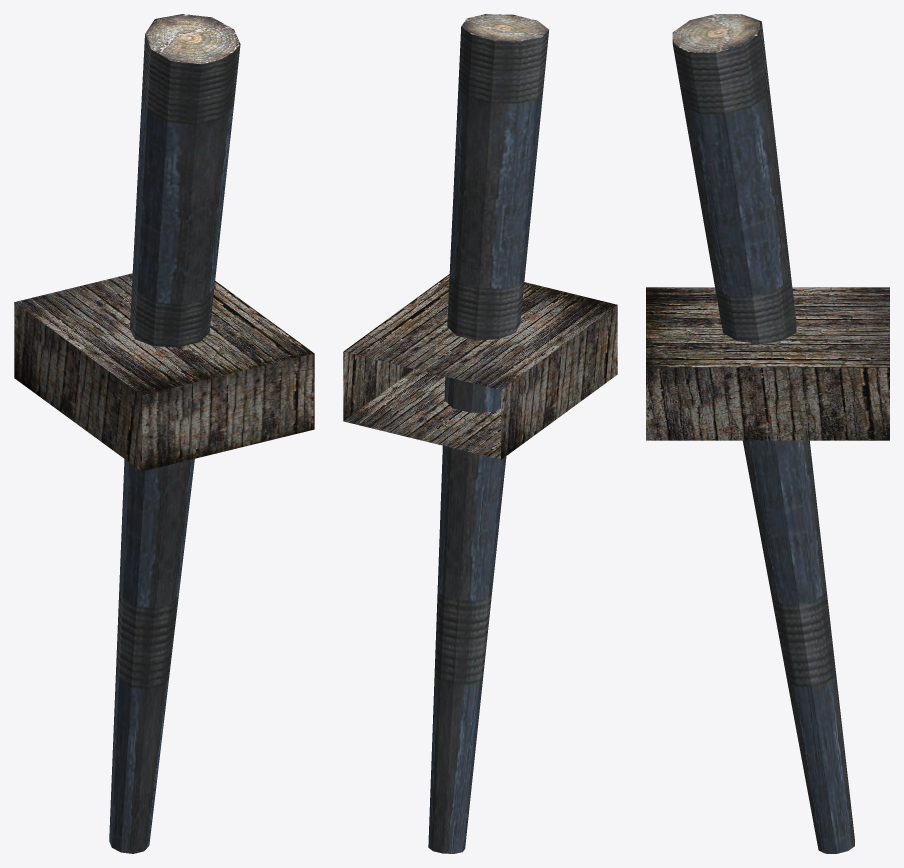
File: exbrtorch01.obj
3 views of the same model, side by side, from view 1: azimuth 30°, elevation 25°; view 2: azimuth 150°, elevation 25°; view 3: azimuth 270°, elevation 25° (orthographic). The views are drawn at different scales.
Visible parts, largest first — view 1: exbrtorch01; view 2: exbrtorch01; view 3: exbrtorch01.
Part boxes in pixels (x1,y1,x2,y2): exbrtorch01: [14, 14, 314, 853]; exbrtorch01: [343, 14, 617, 853]; exbrtorch01: [646, 14, 889, 853].
Size of the model in its own units: 0.3053 by 1.45 by 0.3909.
3 materials, 3 textured.
